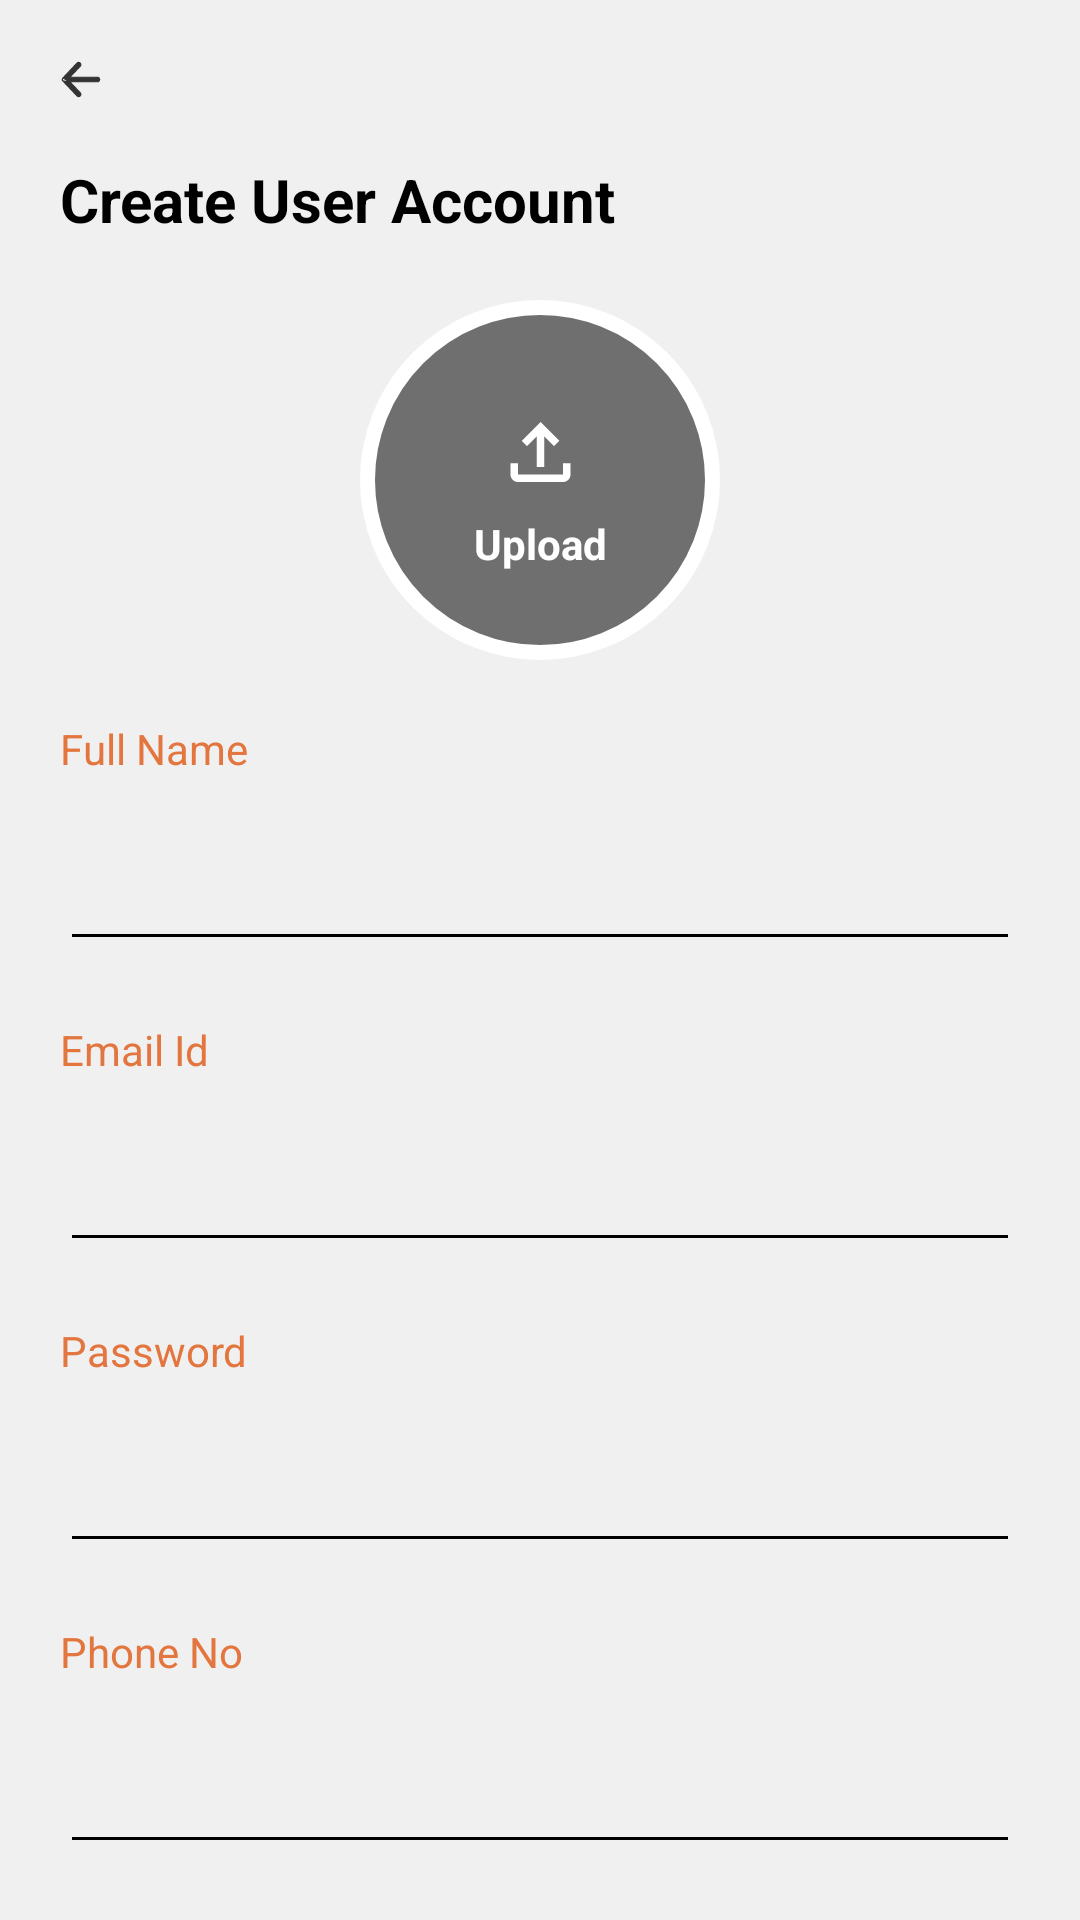

Icon bounding boxes for this 1080 x 1920 phone screenshot, format (x1, y1, x2, y2):
back: (61, 61, 101, 98)
